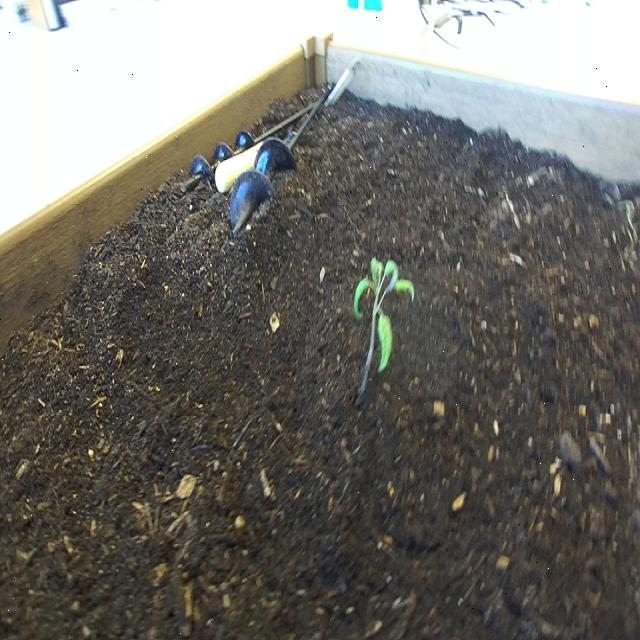Healthy: (351, 252, 418, 402)
